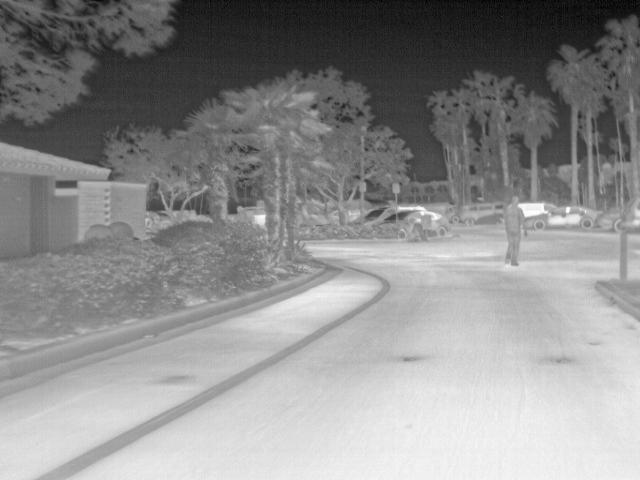car: (383, 210, 451, 238), (527, 205, 598, 231), (459, 200, 507, 225), (621, 197, 640, 234), (360, 205, 396, 224), (595, 213, 622, 233), (525, 200, 551, 216), (252, 205, 267, 227)
person: (502, 194, 527, 268), (237, 205, 253, 223)
